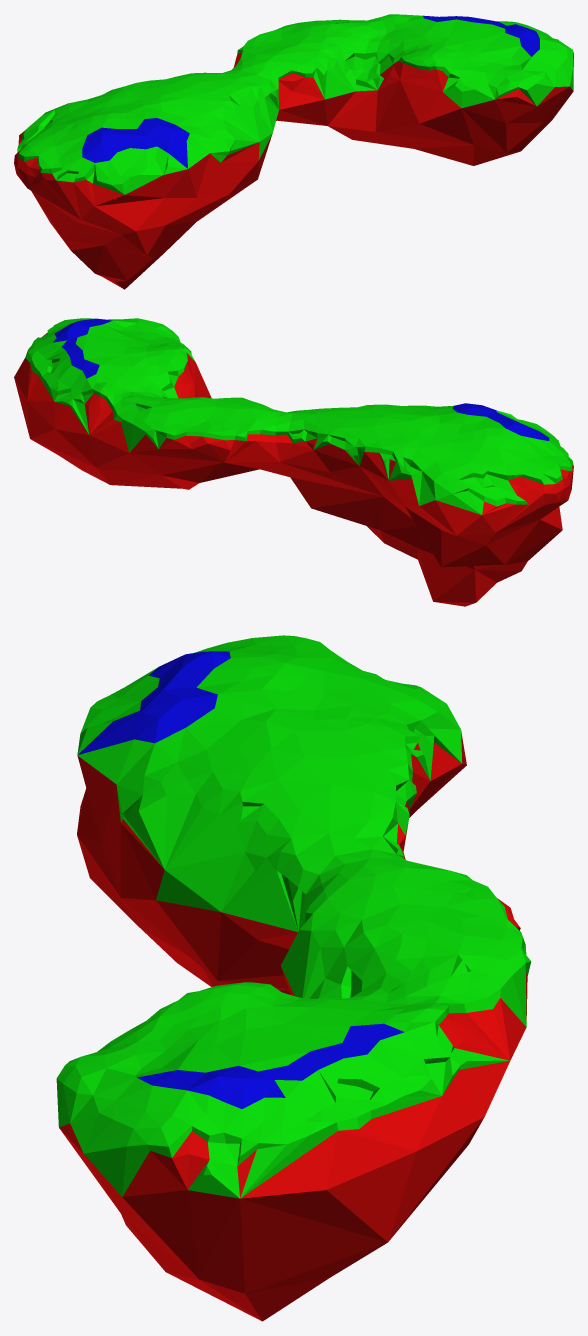
File: Isle_Static_Double24x10_Collider.fbx
3 renders of one model, top to bottom at view 1: azimuth 30°, elevation 25°; view 2: azimuth 150°, elevation 25°; view 3: azimuth 270°, elevation 25°, orthographic. The views are drawn at different scales.
Parts seen in each view (by area): view 1: Isle_Static_Double24x10_Collider; view 2: Isle_Static_Double24x10_Collider; view 3: Isle_Static_Double24x10_Collider.
Part boxes in pixels (x1,y1,x2,y2): Isle_Static_Double24x10_Collider: [14, 14, 573, 289]; Isle_Static_Double24x10_Collider: [14, 318, 573, 606]; Isle_Static_Double24x10_Collider: [56, 635, 531, 1321].
Bounding box in the file's own units: 2420 × 765 × 927.
